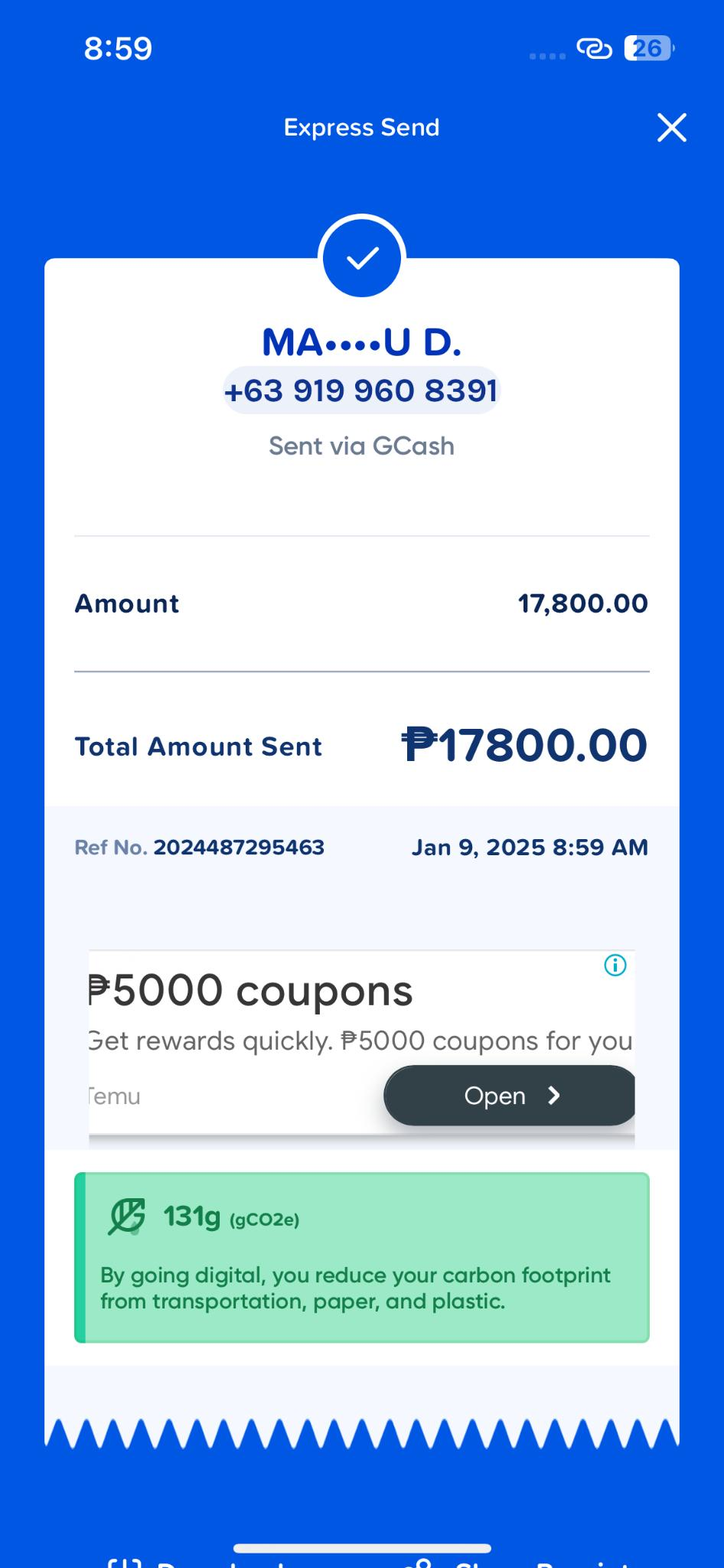Receipt: (0, 69, 721, 1547)
